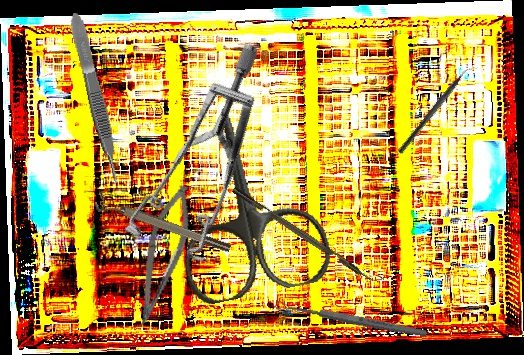Chopper: (231, 179, 386, 290), (397, 59, 479, 160)
Fixation Ring: (92, 191, 233, 261)
Iris Scissors: (152, 92, 338, 309)
Micro Scissor: (129, 180, 200, 333)
Speculum: (74, 39, 339, 290)
Surgical Spoon: (274, 299, 428, 339)
Tissue Forceps: (66, 10, 125, 188)
